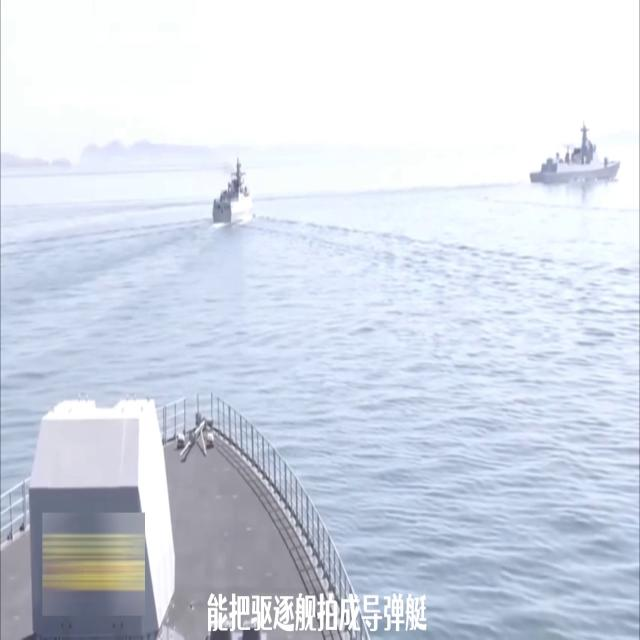navalvessels: (527, 116, 619, 184), (206, 147, 252, 224)
